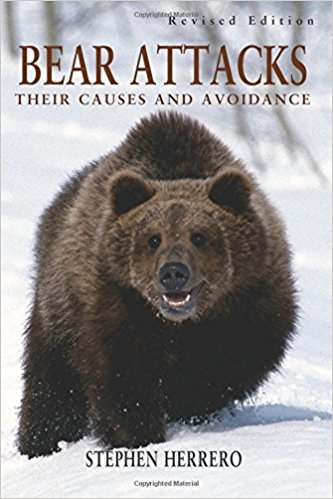bear: (97, 167, 261, 328)
